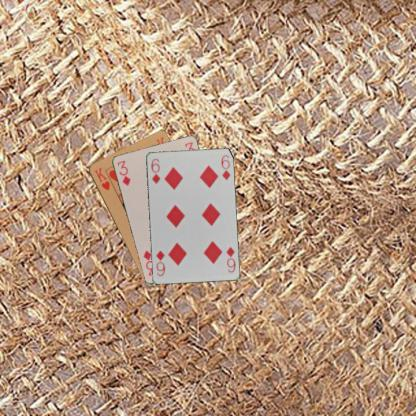3d: (114, 158, 132, 186)
6d: (149, 156, 161, 185), (224, 244, 236, 273)
Kh: (91, 164, 111, 192)
